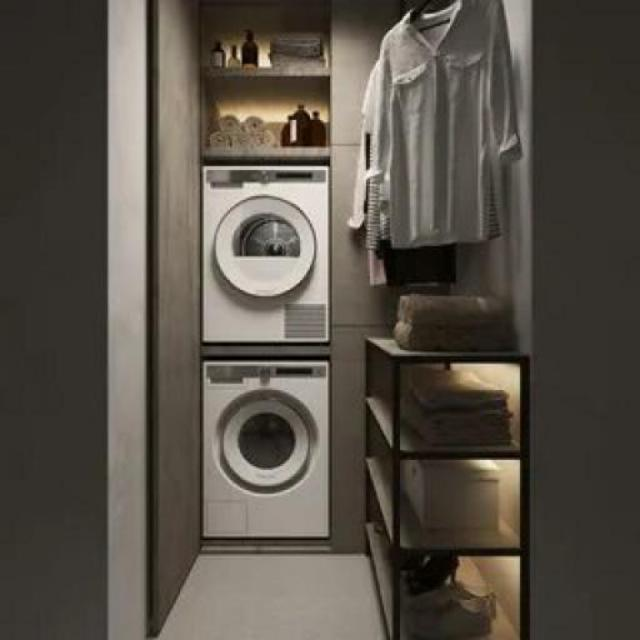Washing-Machine: (206, 165, 332, 338), (208, 358, 332, 532)
